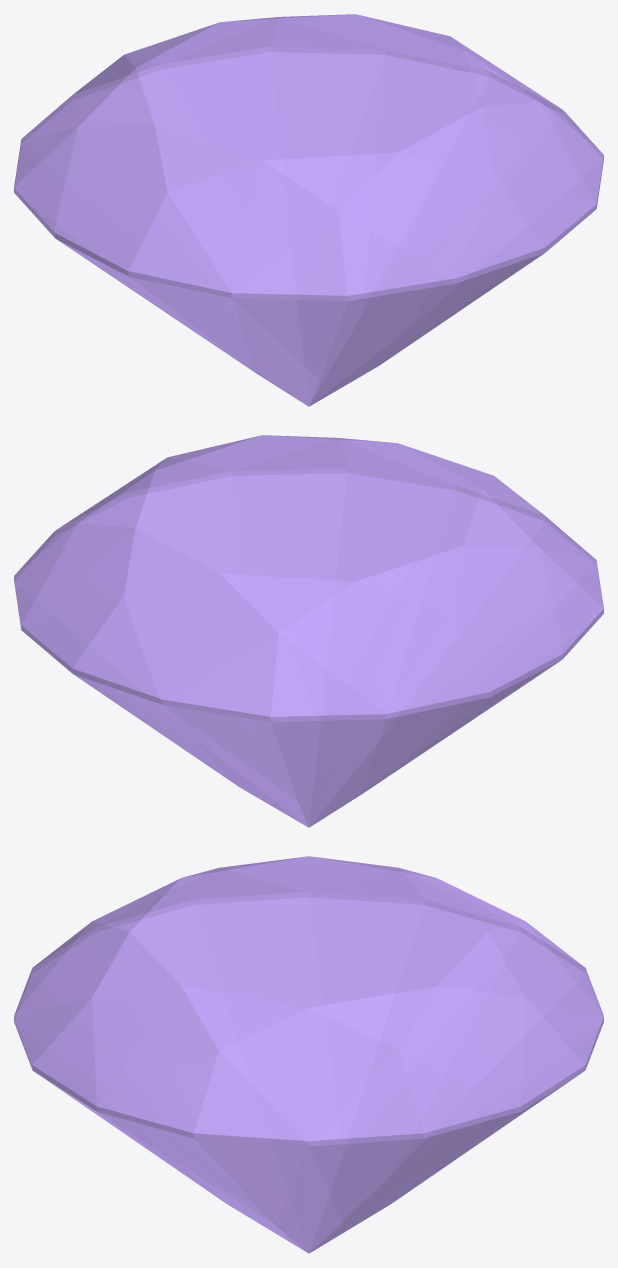
The model's file is round ametiste.glb.
3 views of the same model, one above another, from view 1: azimuth 30°, elevation 25°; view 2: azimuth 150°, elevation 25°; view 3: azimuth 270°, elevation 25° (orthographic).
Visible parts, largest first — view 1: White_1_11.008; view 2: White_1_11.008; view 3: White_1_11.008.
Part boxes in pixels (box(x1,y1,x2,y2)): White_1_11.008: box(14, 14, 603, 406); White_1_11.008: box(14, 435, 603, 827); White_1_11.008: box(14, 856, 603, 1253).
Bounding box in the file's own units: 1.75 × 1.05 × 1.75.
